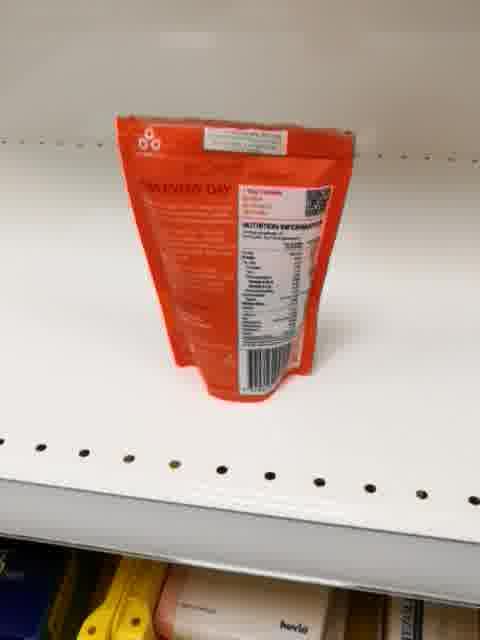whitechia: (113, 107, 358, 407)
